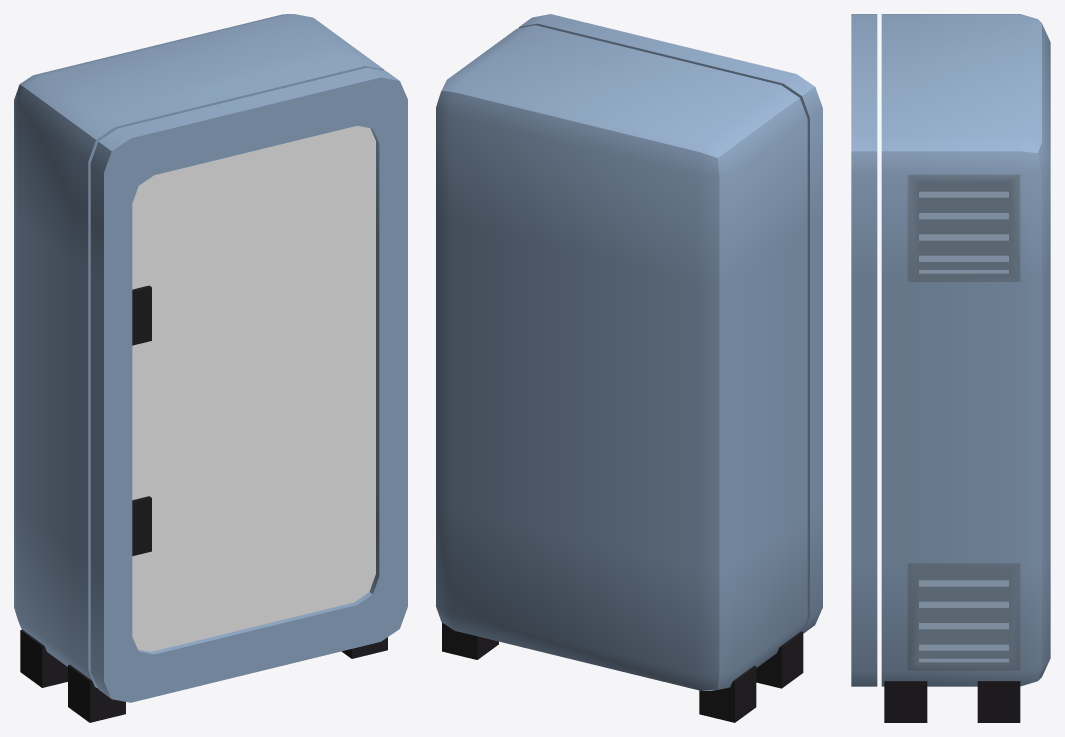
The model's file is can_fridge.glb.
3 renders of one model, left to right at view 1: azimuth 30°, elevation 25°; view 2: azimuth 150°, elevation 25°; view 3: azimuth 270°, elevation 25°, orthographic. The views are drawn at different scales.
Parts seen in each view (by area): view 1: Environment_CanFridge, Environment_CanFridge_Door; view 2: Environment_CanFridge; view 3: Environment_CanFridge.
Boxes of the visible parts, x1,y1,x2,y2 form: Environment_CanFridge: [14, 14, 407, 722]; Environment_CanFridge_Door: [132, 125, 375, 651]; Environment_CanFridge: [436, 14, 822, 722]; Environment_CanFridge: [851, 14, 1050, 722].
Bounding box in the file's own units: 2.36 × 4.39 × 1.37.
2 materials, 1 textured.
